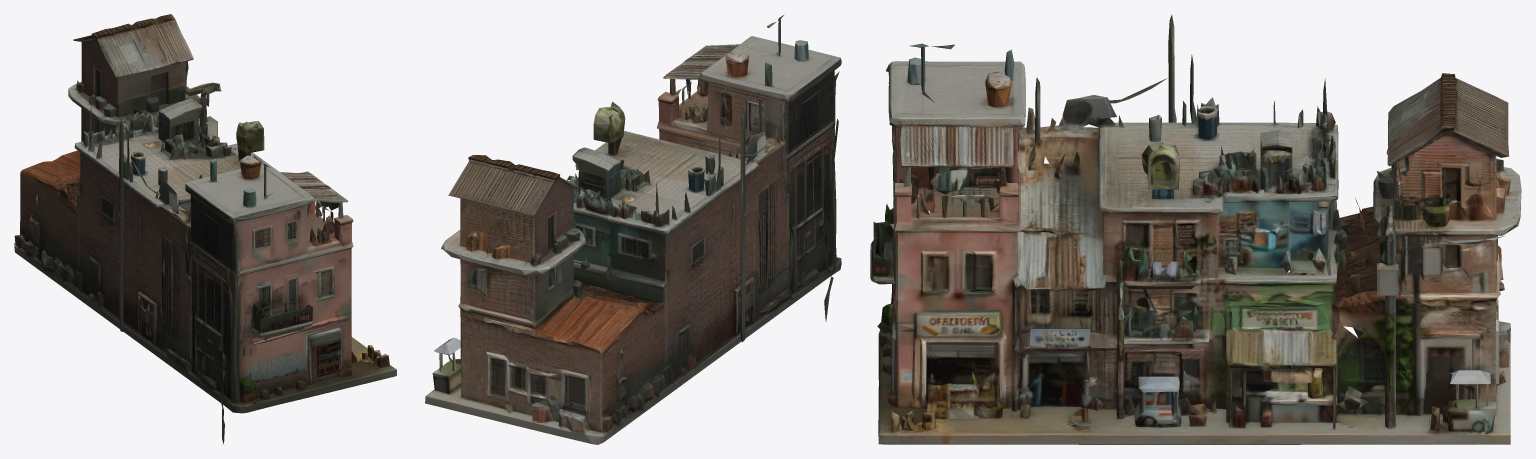
The model's file is casa 4.glb.
3 views of the same model, side by side, from view 1: azimuth 30°, elevation 25°; view 2: azimuth 150°, elevation 25°; view 3: azimuth 270°, elevation 25° (orthographic). The views are drawn at different scales.
Visible parts, largest first — view 1: tripo_node_17153d93-2a9f-4526-acc2-0b3dbe6edce1; view 2: tripo_node_17153d93-2a9f-4526-acc2-0b3dbe6edce1; view 3: tripo_node_17153d93-2a9f-4526-acc2-0b3dbe6edce1.
Boxes of the visible parts, x1,y1,x2,y2 form: tripo_node_17153d93-2a9f-4526-acc2-0b3dbe6edce1: (14, 14, 396, 444); tripo_node_17153d93-2a9f-4526-acc2-0b3dbe6edce1: (425, 14, 841, 444); tripo_node_17153d93-2a9f-4526-acc2-0b3dbe6edce1: (870, 14, 1521, 444).
Size of the model in its own units: 0.459 by 0.6423 by 0.9995.
1 material, 1 textured.
